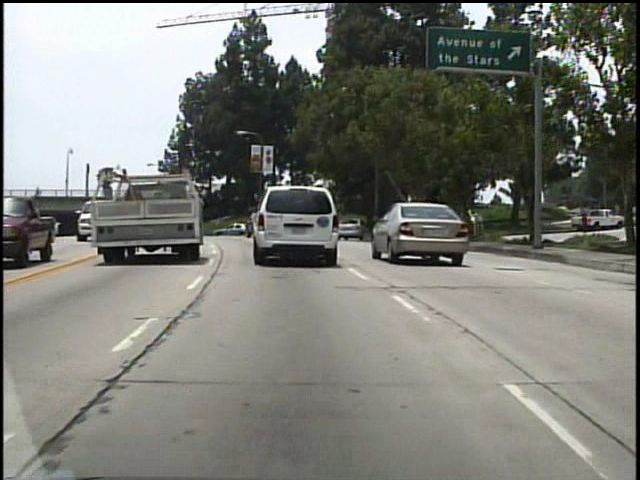person: (31, 183, 42, 203)
